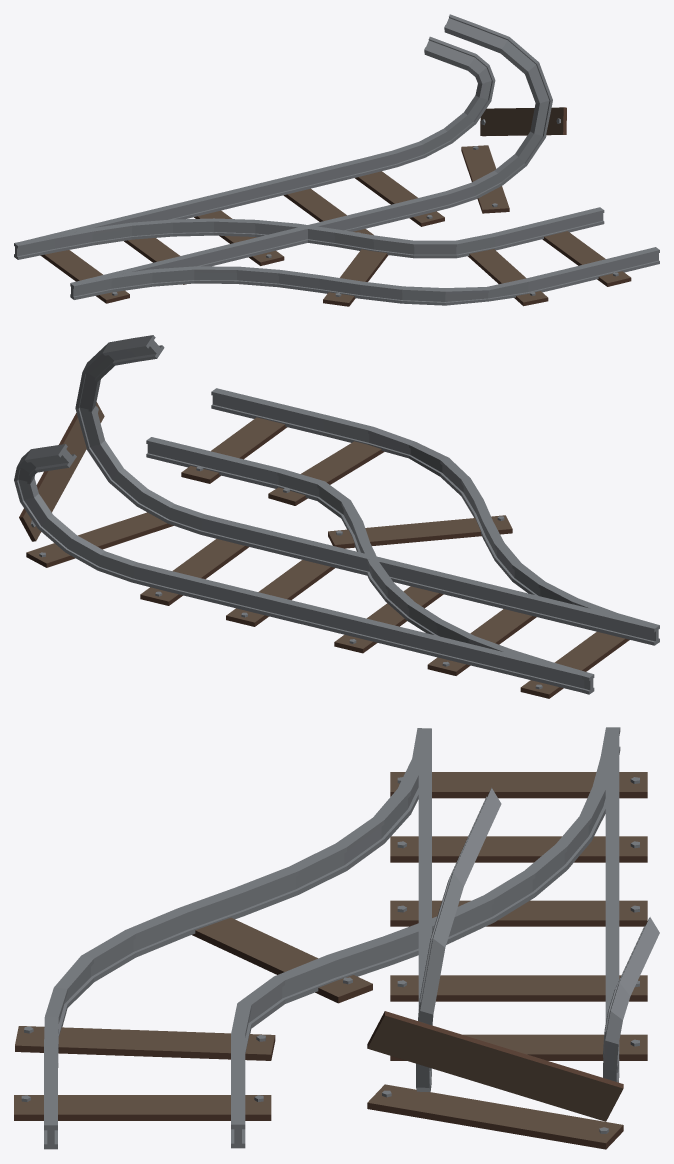
The model's file is Track_CurveRight.fbx.
3 renders of one model, top to bottom at view 1: azimuth 30°, elevation 25°; view 2: azimuth 150°, elevation 25°; view 3: azimuth 270°, elevation 25°, orthographic. The views are drawn at different scales.
Visible parts, largest first — view 1: Track_Straight.003; view 2: Track_Straight.003; view 3: Track_Straight.003.
Part boxes in pixels (x1,y1,x2,y2): Track_Straight.003: (14, 14, 659, 306); Track_Straight.003: (14, 335, 659, 698); Track_Straight.003: (14, 727, 659, 1149).
Bounding box in the file's own units: 408 × 142 × 276.
